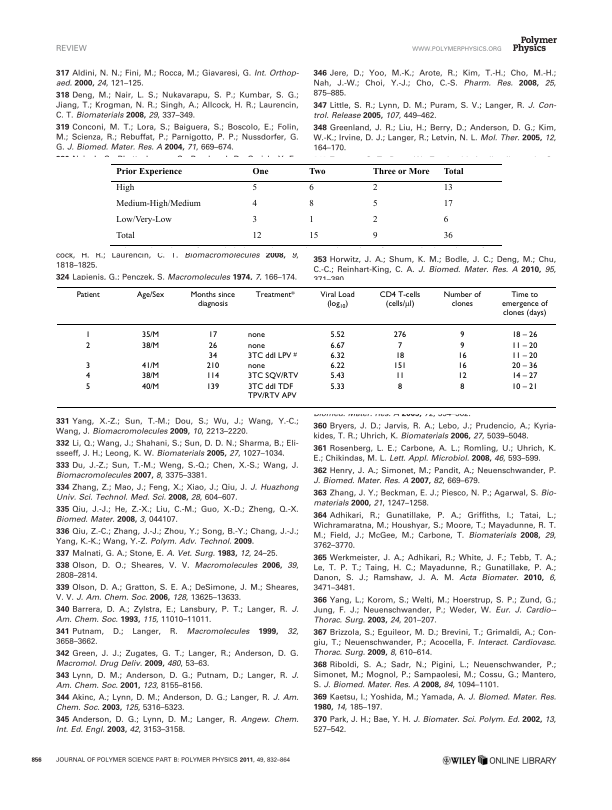borderless: (56, 285, 556, 407), (110, 162, 502, 245)
cell: (500, 289, 548, 318), (247, 381, 297, 400), (378, 288, 421, 310), (189, 289, 235, 308), (115, 199, 201, 209), (319, 289, 355, 310), (442, 289, 481, 308), (115, 166, 182, 176), (371, 166, 430, 176), (115, 215, 172, 225), (247, 371, 299, 381), (247, 350, 297, 360), (254, 289, 295, 299), (135, 289, 165, 299), (511, 330, 538, 340), (511, 340, 538, 350), (511, 361, 538, 371), (511, 371, 538, 381), (511, 381, 538, 391), (75, 289, 100, 299), (511, 351, 538, 360), (442, 166, 464, 176), (115, 183, 135, 193), (115, 231, 135, 241), (141, 330, 160, 340), (141, 340, 160, 350), (141, 361, 160, 371), (141, 371, 160, 381), (141, 381, 160, 391), (247, 330, 265, 340), (247, 340, 265, 350), (247, 361, 265, 371), (251, 166, 269, 176), (308, 166, 326, 176), (329, 330, 345, 340), (329, 340, 345, 350), (329, 361, 345, 371), (329, 371, 345, 381), (329, 381, 345, 391), (392, 330, 407, 340), (205, 361, 220, 371), (392, 361, 407, 371), (205, 371, 220, 381), (205, 381, 220, 391), (329, 351, 345, 360), (207, 330, 218, 340), (207, 340, 218, 350), (394, 371, 405, 381), (442, 183, 453, 193), (442, 199, 453, 209), (251, 231, 262, 241), (308, 231, 319, 241), (442, 231, 453, 241), (457, 361, 467, 371), (457, 371, 467, 381), (207, 351, 218, 360), (394, 351, 405, 360), (457, 351, 467, 360), (396, 340, 403, 350), (396, 381, 403, 391), (371, 183, 378, 193), (371, 199, 378, 209), (371, 215, 378, 225), (442, 215, 449, 225), (371, 231, 378, 241), (85, 330, 91, 340), (459, 330, 465, 340), (85, 340, 91, 350), (459, 340, 465, 350), (85, 361, 91, 371), (85, 371, 91, 381), (85, 381, 91, 391), (459, 381, 465, 391), (251, 183, 257, 193), (308, 183, 314, 193), (251, 199, 257, 209), (308, 199, 314, 209), (251, 215, 257, 225), (308, 215, 314, 225)
